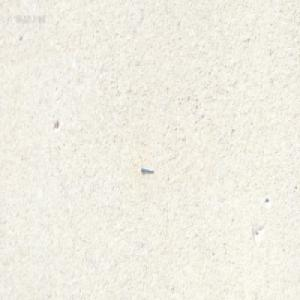Nail: (140, 164, 153, 172)
